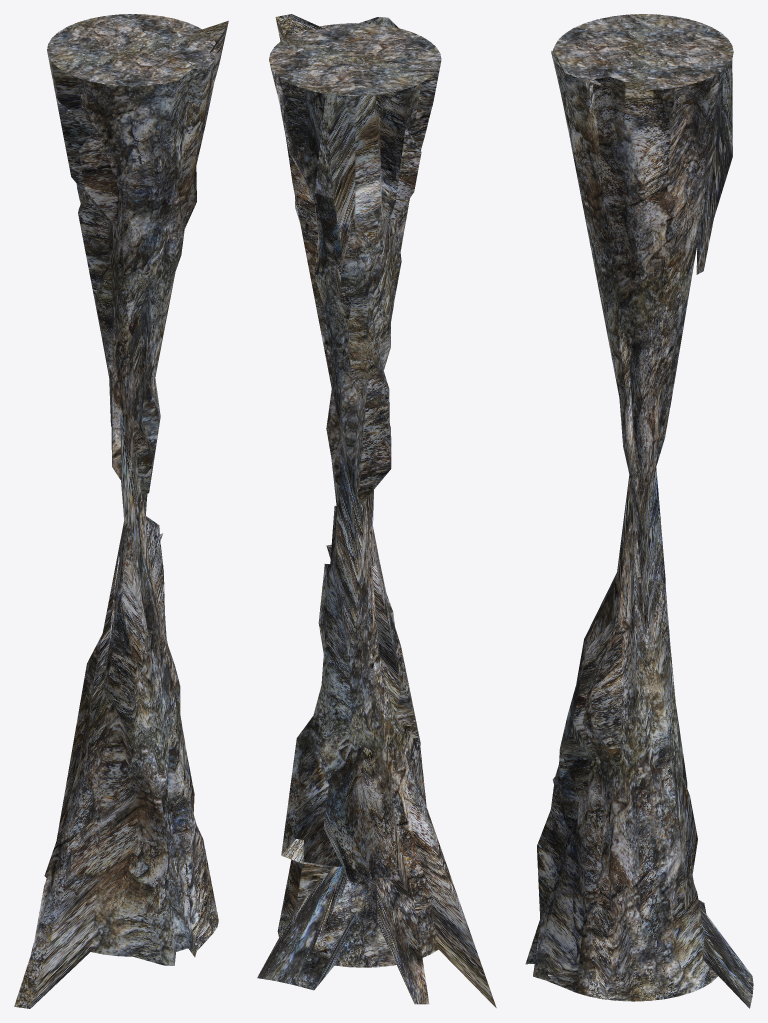
Rendered from stalaktit_nit.fbx.
The picture shows the model from 3 angles, left to right: view 1: azimuth 30°, elevation 25°; view 2: azimuth 150°, elevation 25°; view 3: azimuth 270°, elevation 25°; orthographic projection. The views are drawn at different scales.
Parts seen in each view (by area): view 1: Kegel_1, Kegel_2; view 2: Kegel_1, Kegel_2; view 3: Kegel_1, Kegel_2.
Boxes of the visible parts, bbox=[...] form: Kegel_1: bbox=[14, 379, 218, 1008]; Kegel_2: bbox=[47, 14, 228, 495]; Kegel_1: bbox=[257, 446, 496, 1007]; Kegel_2: bbox=[269, 14, 441, 504]; Kegel_1: bbox=[525, 441, 753, 1008]; Kegel_2: bbox=[551, 14, 733, 529].
Size of the model in its own units: 135 by 553 by 116.
1 material, 1 textured.
